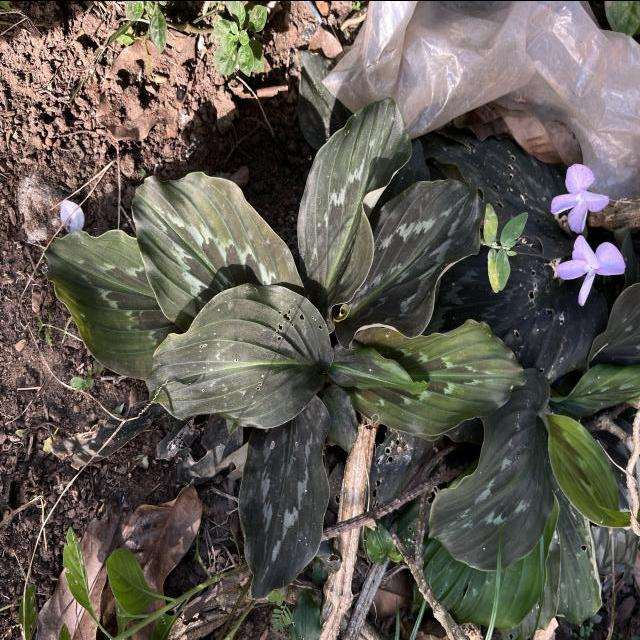Kaempferia galanga linn: (295, 91, 415, 336), (130, 168, 308, 332), (144, 280, 336, 430), (426, 364, 556, 572), (333, 175, 484, 350), (346, 316, 529, 436), (236, 393, 332, 601), (42, 227, 156, 380), (327, 338, 432, 394)
